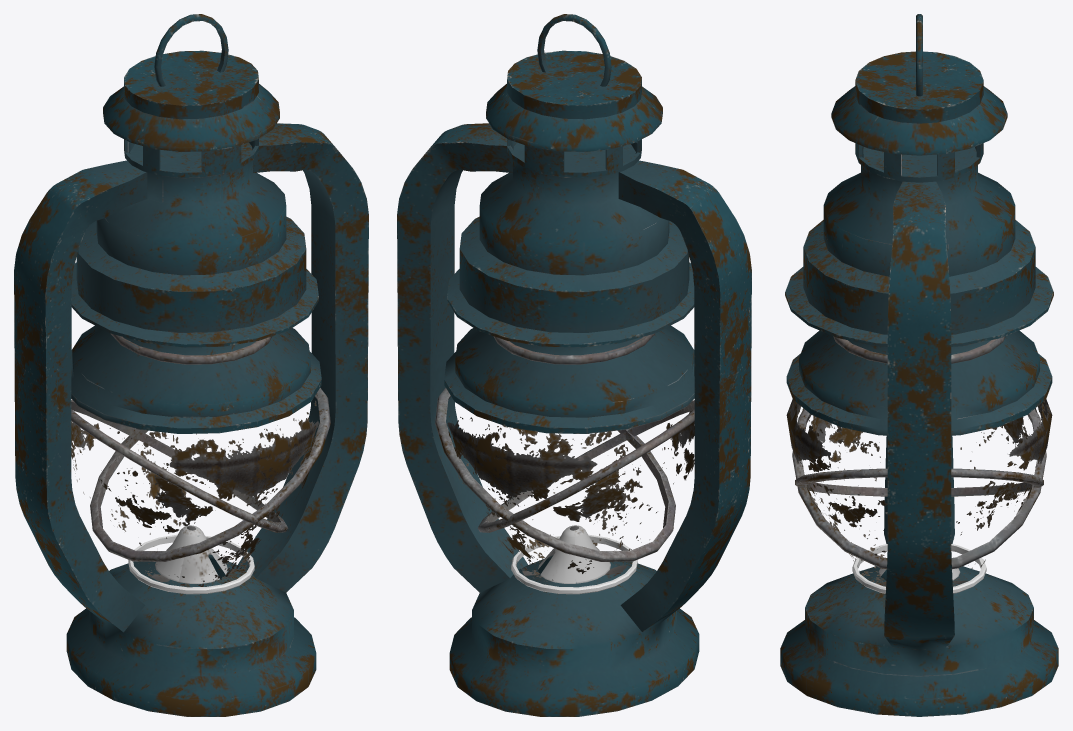
Rendered from lampara final.fbx.
3 views of the same model, side by side, from view 1: azimuth 30°, elevation 25°; view 2: azimuth 150°, elevation 25°; view 3: azimuth 270°, elevation 25° (orthographic).
Parts seen in each view (by area): view 1: Cylinder.008, Cylinder.010, Cylinder.011, Cylinder.009, Cylinder.013, Cylinder.012; view 2: Cylinder.008, Cylinder.010, Cylinder.011, Cylinder.009, Cylinder.013, Cylinder.012; view 3: Cylinder.008, Cylinder.011, Cylinder.010, Cylinder.013, Cylinder.009, Cylinder.012.
Boxes of the visible parts, box(x1,y1,x2,y2) form: Cylinder.008: box(14, 50, 368, 716); Cylinder.010: box(90, 388, 330, 561); Cylinder.011: box(71, 400, 288, 532); Cylinder.009: box(128, 534, 254, 594); Cylinder.013: box(110, 333, 272, 364); Cylinder.012: box(154, 14, 228, 86); Cylinder.008: box(397, 50, 751, 716); Cylinder.010: box(435, 388, 675, 561); Cylinder.011: box(477, 400, 694, 532); Cylinder.009: box(511, 534, 637, 594); Cylinder.013: box(493, 333, 655, 364); Cylinder.012: box(537, 14, 611, 86); Cylinder.008: box(780, 51, 1058, 716); Cylinder.011: box(792, 409, 1046, 569); Cylinder.010: box(795, 468, 1043, 496); Cylinder.013: box(833, 336, 1005, 363); Cylinder.009: box(852, 544, 986, 593); Cylinder.012: box(916, 14, 922, 96).
Bounding box in the file's own units: 17.89 × 33.41 × 12.98.
